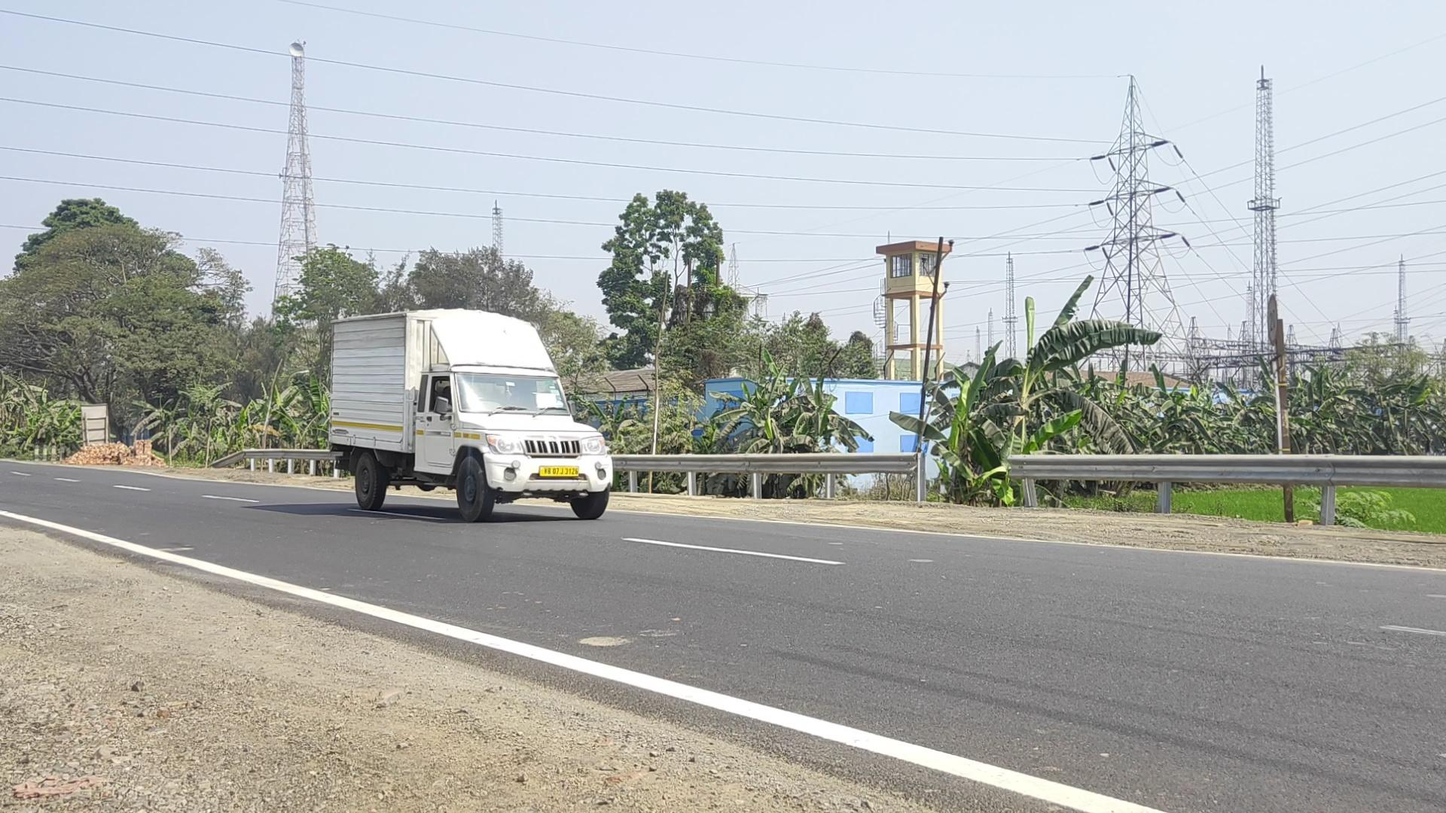van: (329, 309, 613, 522)
